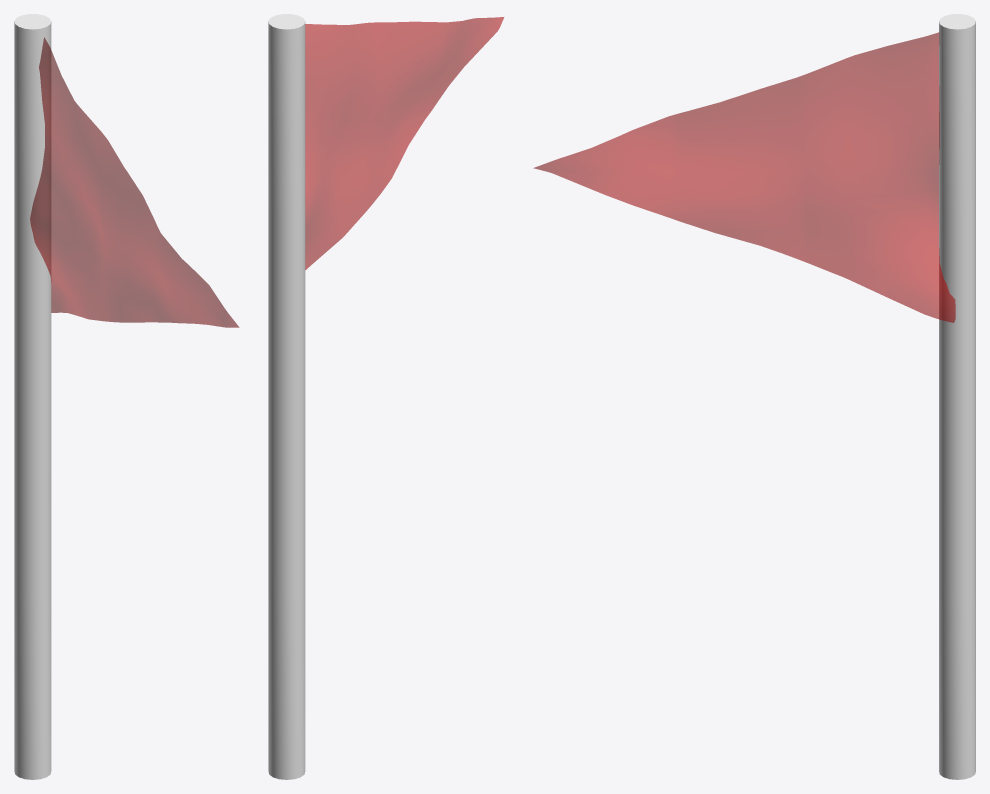
File: flag.fbx
3 views of the same model, side by side, from view 1: azimuth 30°, elevation 25°; view 2: azimuth 150°, elevation 25°; view 3: azimuth 270°, elevation 25° (orthographic).
Visible parts, largest first — view 1: Polygon; view 2: Polygon; view 3: Polygon.
Boxes of the visible parts, <box> form: Polygon: <box>14,14,239,779</box>; Polygon: <box>268,14,503,779</box>; Polygon: <box>533,14,975,779</box>.
Bounding box in the file's own units: 3.18 × 64.82 × 34.68.
